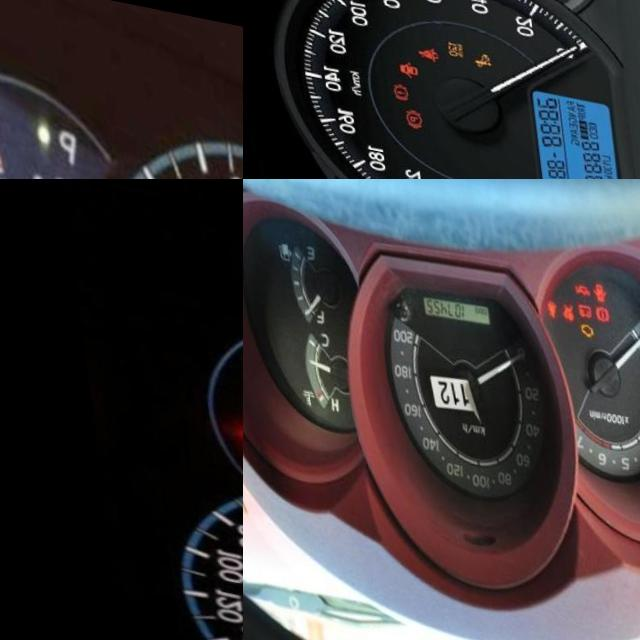Seat Belt: (410, 33, 431, 50), (543, 282, 554, 300)
